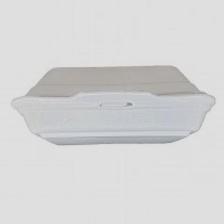foam_box: (7, 58, 220, 157)
